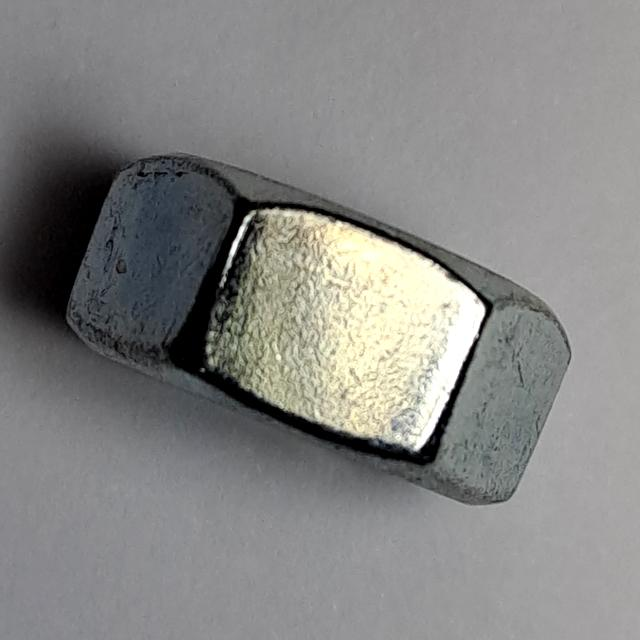Side_Excellent: (62, 134, 581, 514)
